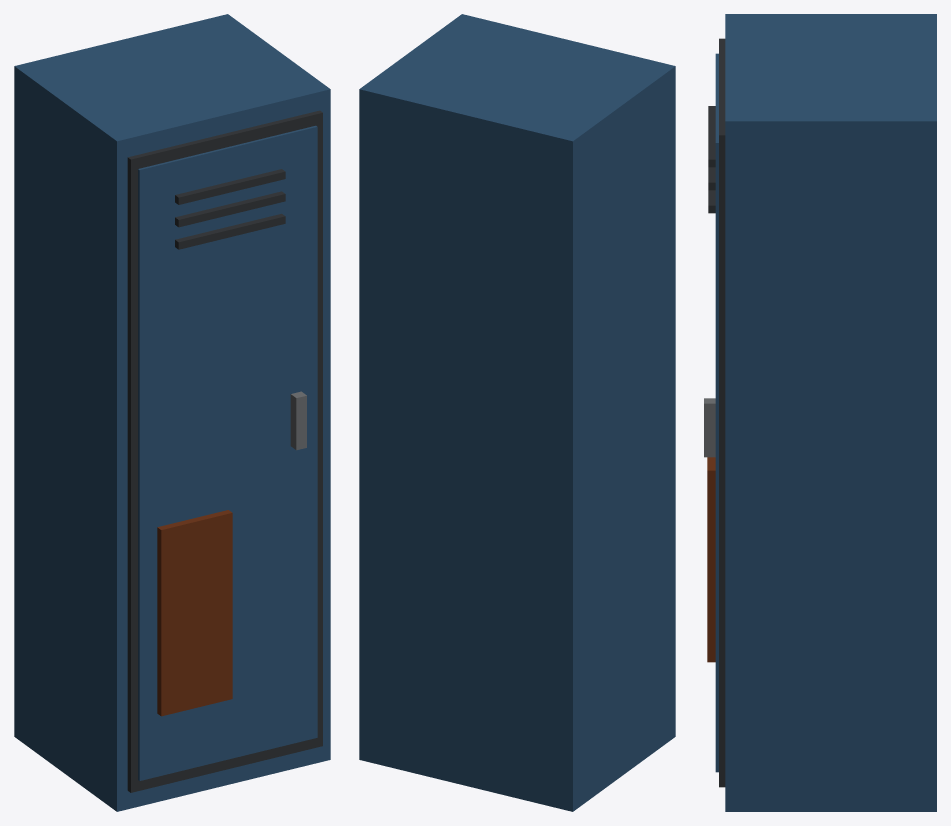
File: Locker.fbx
The picture shows the model from 3 angles, left to right: view 1: azimuth 30°, elevation 25°; view 2: azimuth 150°, elevation 25°; view 3: azimuth 270°, elevation 25°; orthographic projection. The views are drawn at different scales.
Parts seen in each view (by area): view 1: Locker; view 2: Locker; view 3: Locker.
Part boxes in pixels (x1=…): Locker: x1=14, y1=14, x2=330, y2=811; Locker: x1=359, y1=14, x2=675, y2=811; Locker: x1=704, y1=14, x2=936, y2=811.
Bounding box in the file's own units: 0.6 × 1.8 × 0.55.
